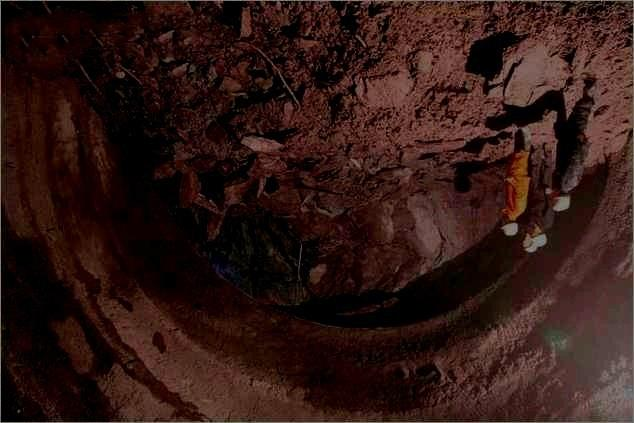helmet: (548, 187, 570, 212), (499, 215, 518, 236), (530, 225, 547, 247), (522, 232, 537, 253)
